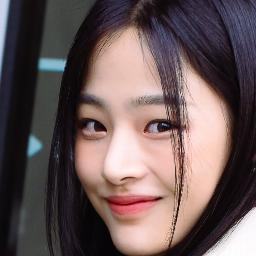face: (74, 32, 218, 252)
